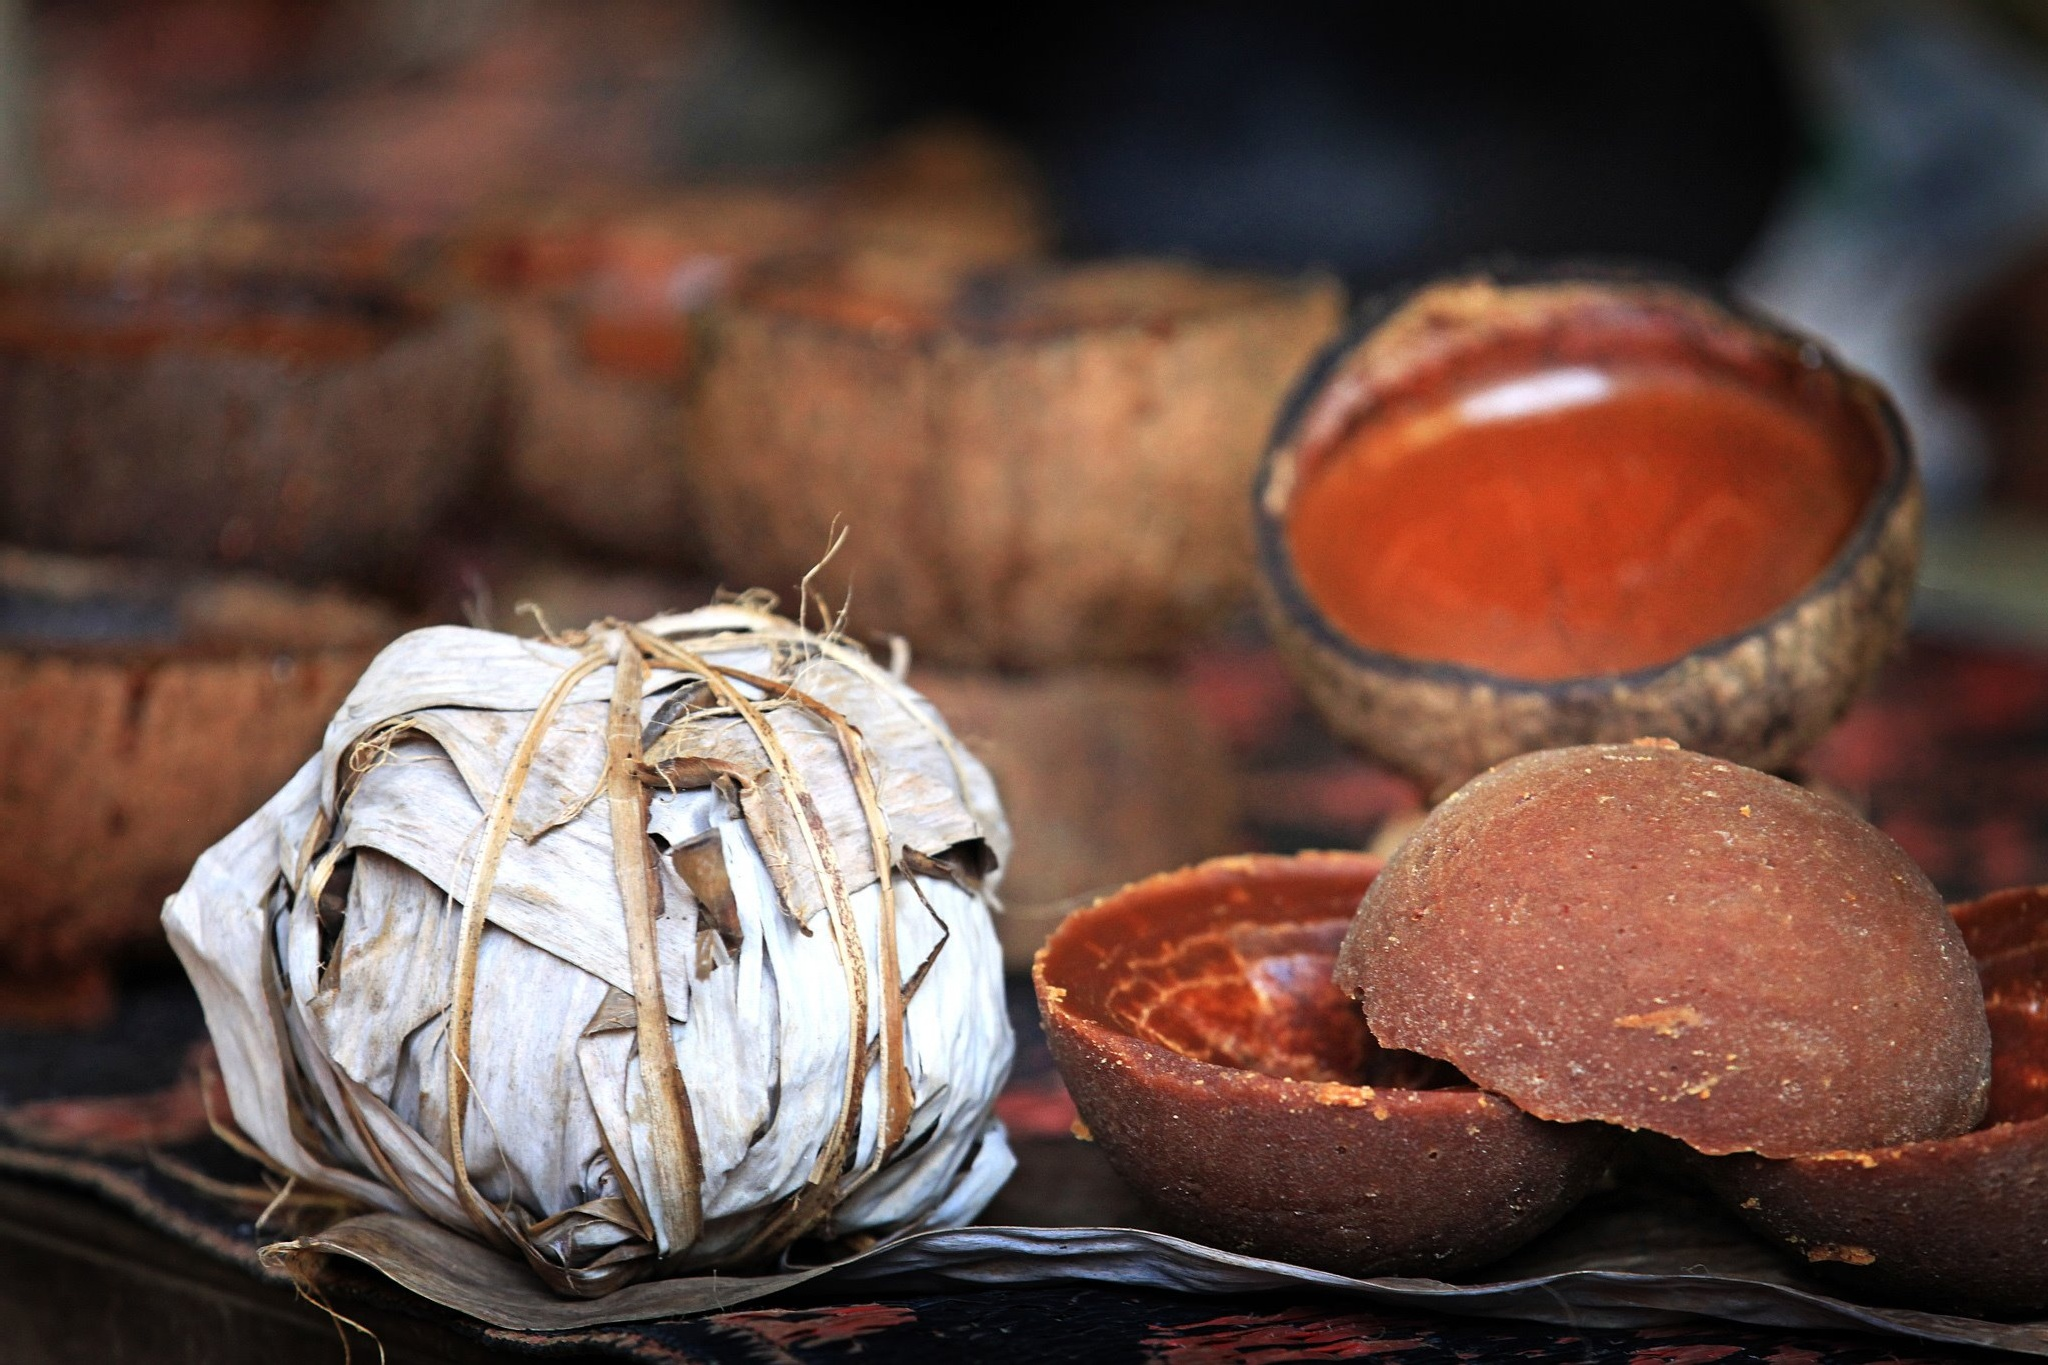hakuru: (1345, 728, 2001, 1150), (1026, 830, 1622, 1251)
